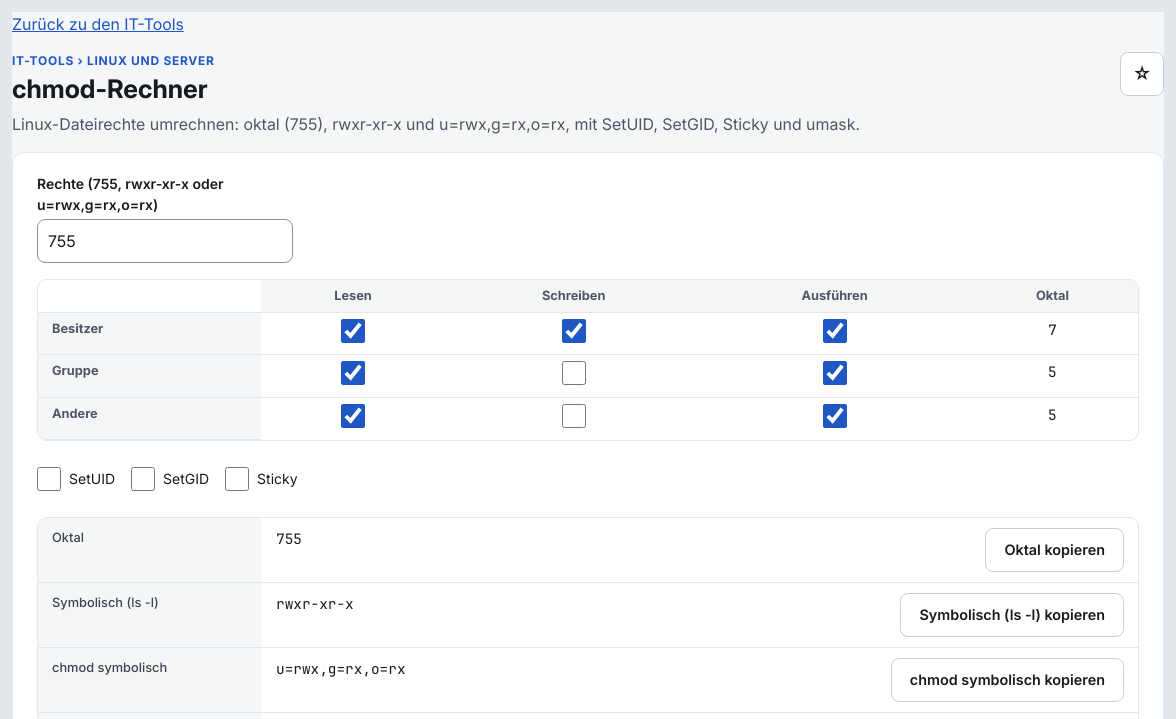
Scenario: ToolPage › chmod: rechnet zwischen den Schreibweisen um
Check: the field labelled "Rechte (755, rwxr-xr-x oder u=rwx,g=rx,o=rx)" holds "755", box [37,219,293,263]
Click the checkbox named "Andere Schreiben". click: (574, 416)
box: [562,404,586,428]
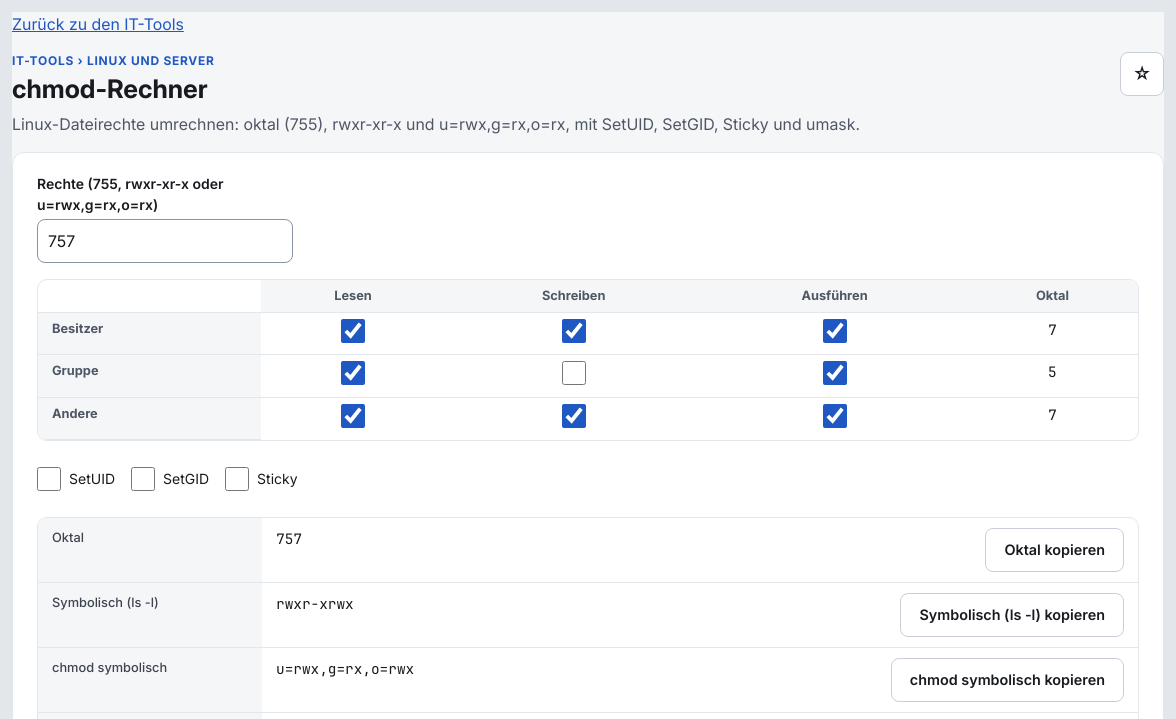
Check: the field labelled "Rechte (755, rwxr-xr-x oder u=rwx,g=rx,o=rx)" holds "757"
Replace the text in the field labelled "Rechte (755, rwxr-xr-x oder u=rwx,g=rx,o=rx)" with "rw-r-----". click: (165, 241)
box: [37,219,293,263]
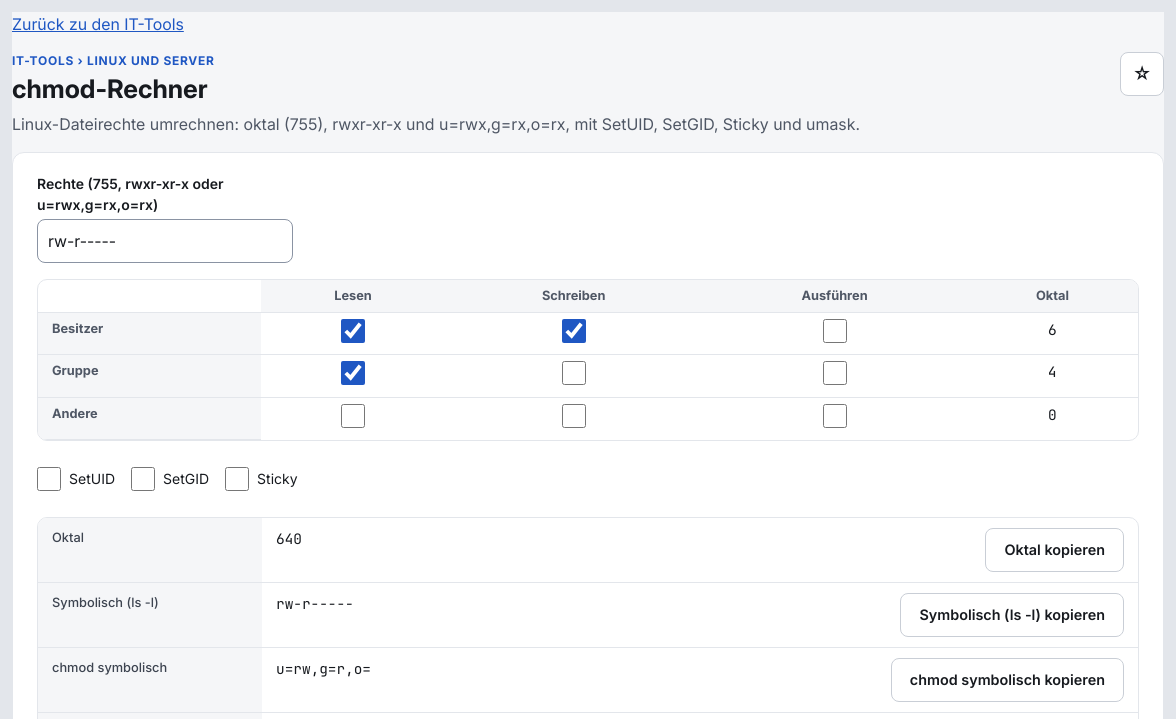
Check: the row "Oktal 640 Oktal kopieren" is shown, box [38,518,1138,582]
Replace the text in the field labelled "Rechte (755, rwxr-xr-x oder u=rwx,g=rx,o=rx)" with "unsinn". click: (165, 241)
box: [37,219,293,263]
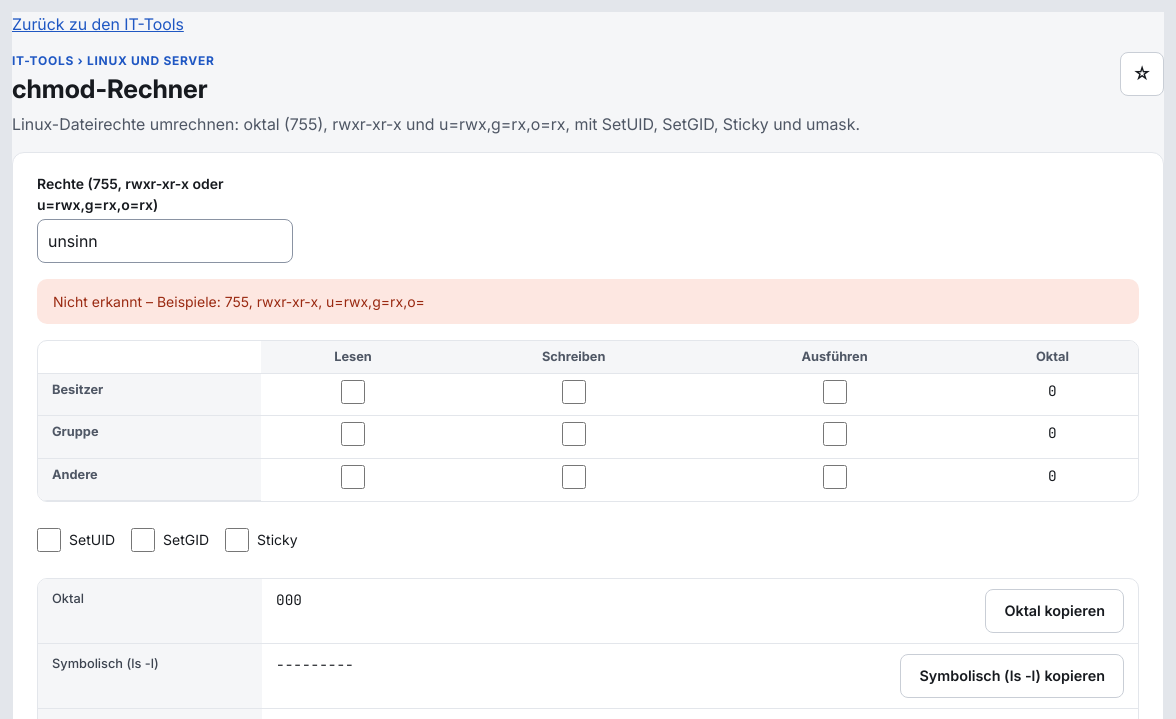
Check: the message shows "Nicht erkannt", box [53,293,425,310]
